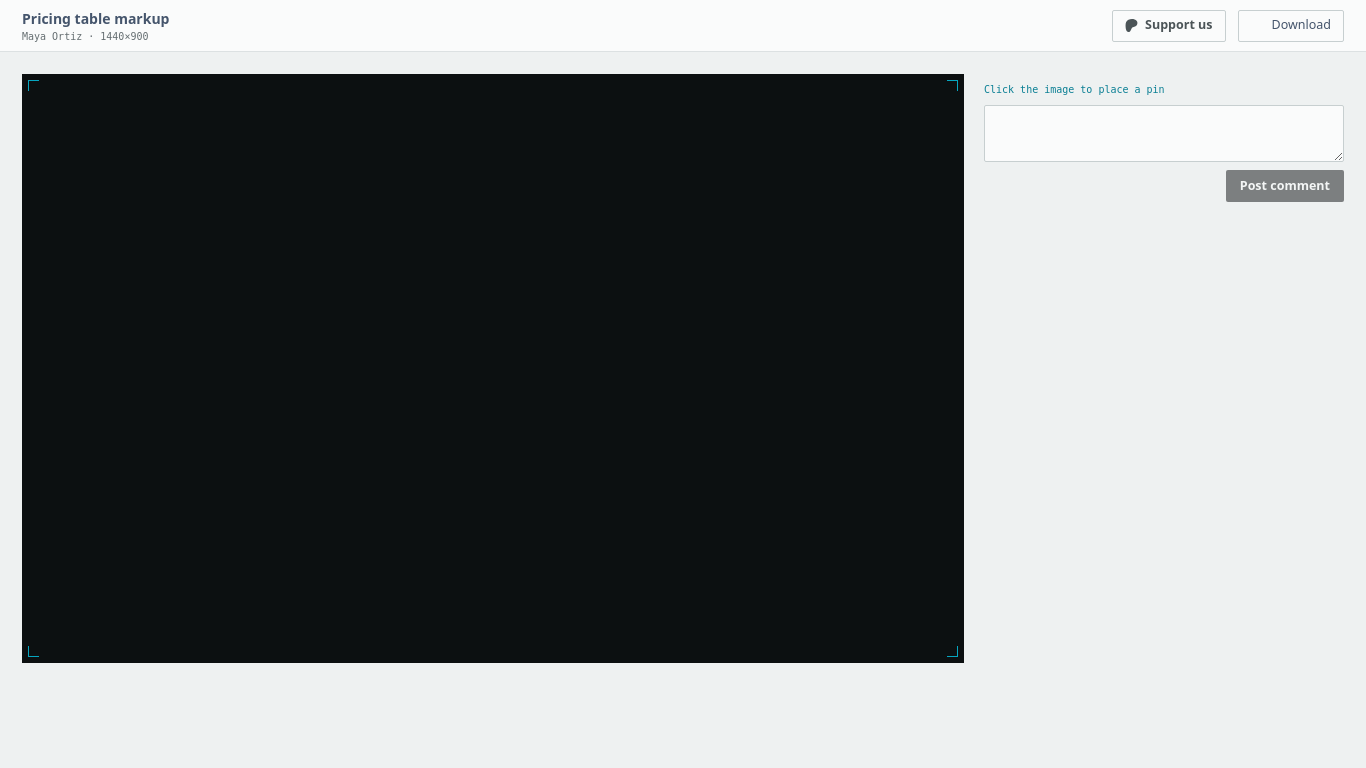
Test: a refused comment on an image › drops the pin once the comment is taken
Click the element with test id "image-canvas" at point(493, 368), box [22,74,964,663]
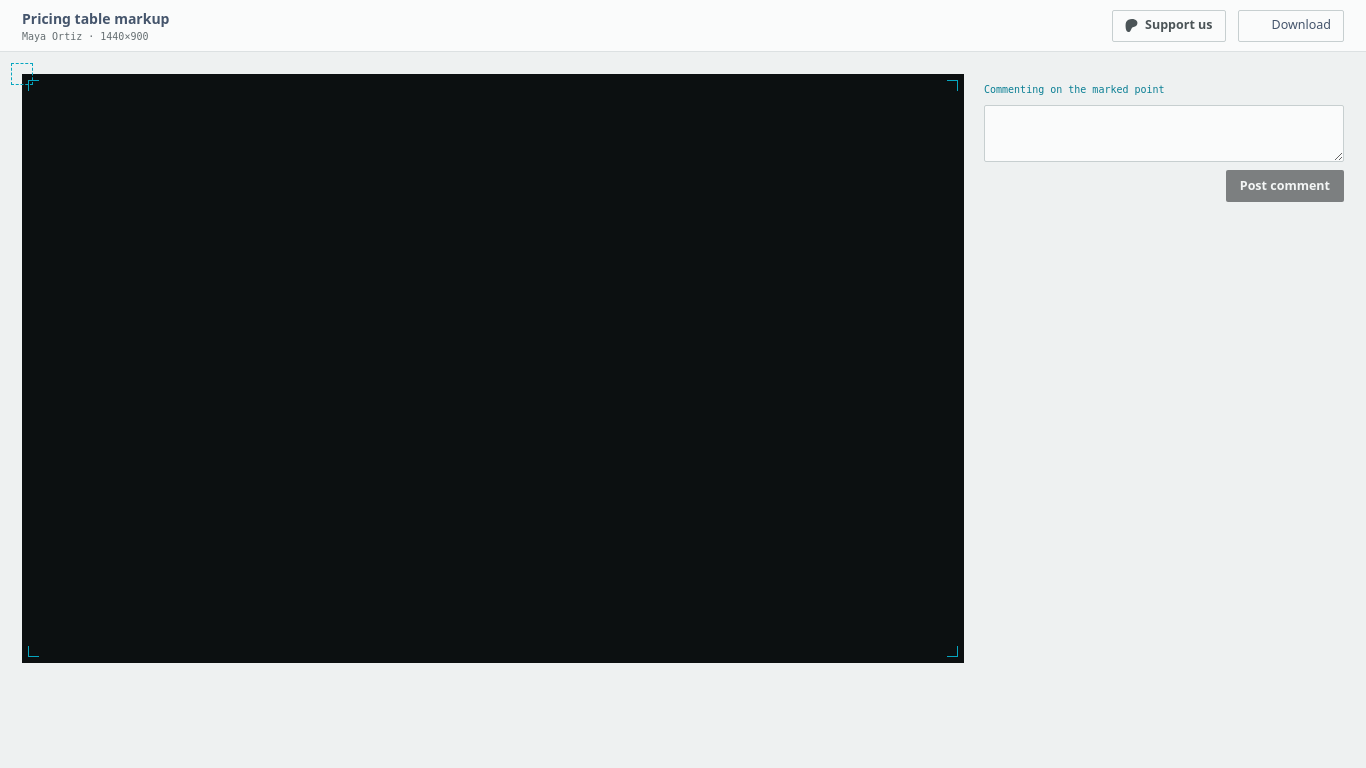
Type "Column 3" into the text box named "Write a comment" at point(1164, 134), box [984,105,1344,162]
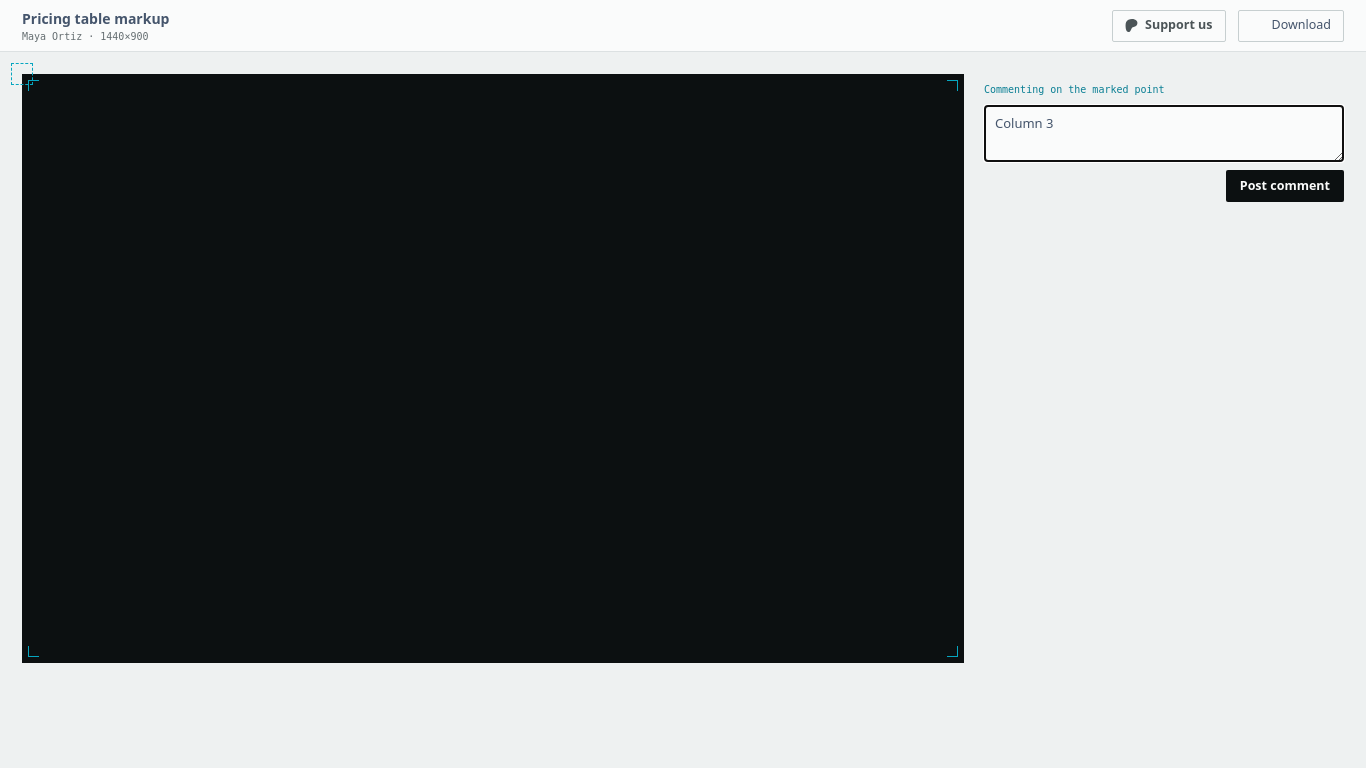
Click the button "Post comment" at point(1285, 186), box [1226,170,1344,202]
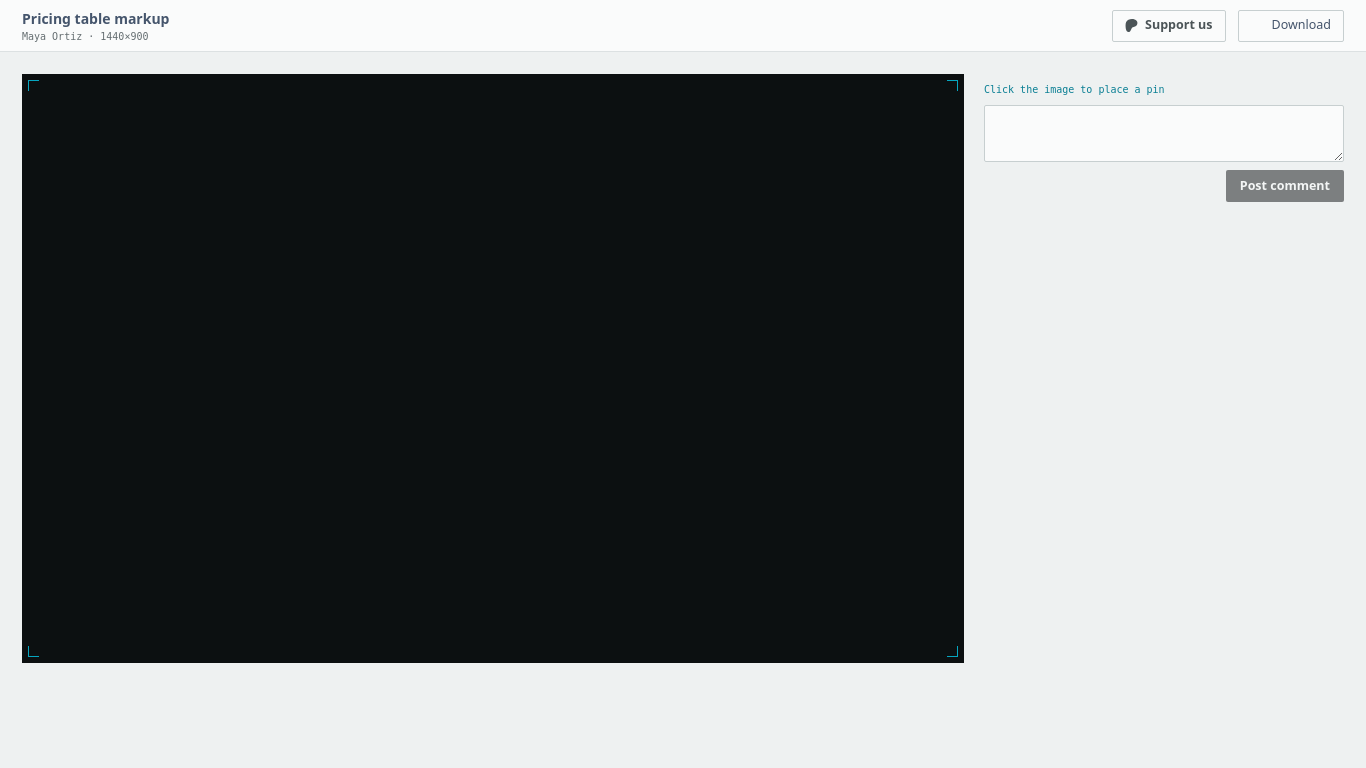
expect the element with test id "pending-pin" is gone: met
